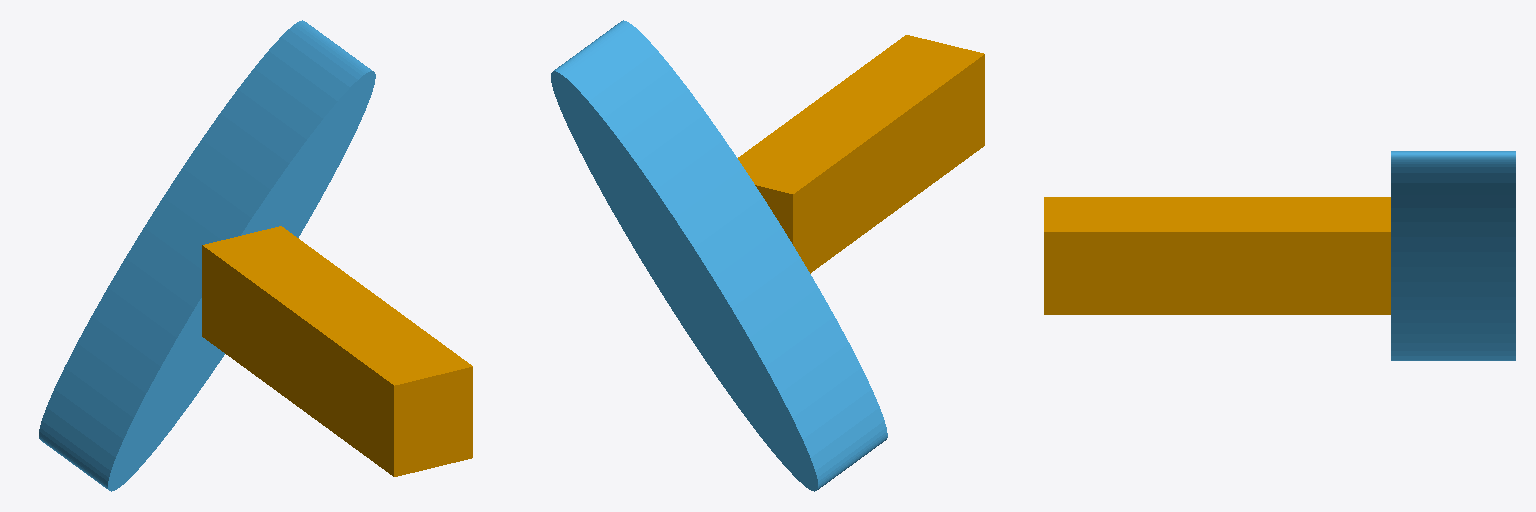
URDF robot description (robot):
<?xml version="1.0" ?>
<robot name="robot">
  <link name="part_1_1">
    <inertial>
      <origin xyz="-0.10943506 -0.062110661 0.10878255" rpy="0 0 0"/>
      <mass value="0.56836923"/>
      <inertia ixx="0.00055839502" ixy="0" ixz="0" iyy="6.5667897e-05" iyz="0" izz="0.00055165134"/>
    </inertial>
    <visual>
      <origin xyz="-0.096446657 -0.11461066 0.086409828" rpy="-1.5707963 1.5707963 0"/>
      <geometry>
        <mesh filename="meshes/part_1_1.stl"/>
      </geometry>
    </visual>
    <collision>
      <origin xyz="-0.096446657 -0.11461066 0.086409828" rpy="-1.5707963 1.5707963 0"/>
      <geometry>
        <mesh filename="meshes/part_1_1.stl"/>
      </geometry>
    </collision>
  </link>
  <joint name="revolute_1" type="continuous">
    <origin xyz="-0.10943506 -0.0096106609 0.10878255" rpy="-1.5707963 1.5707963 0"/>
    <parent link="part_1_1"/>
    <child link="part_2_1"/>
    <axis xyz="0 0 1"/>
  </joint>
  <link name="part_2_1">
    <inertial>
      <origin xyz="1.1926834e-06 9.2599643e-07 0.01895" rpy="0 0 0"/>
      <mass value="0.57017369"/>
      <inertia ixx="0.00032279202" ixy="-0.00031237866" ixz="-2.426694e-09" iyy="0.00048135929" iyz="3.1195454e-09" izz="0.00066756353"/>
    </inertial>
    <visual>
      <origin xyz="0.028753962 -0.16351267 0" rpy="1.5707963 0 -2.4804734"/>
      <geometry>
        <mesh filename="meshes/part_2_1.stl"/>
      </geometry>
    </visual>
    <collision>
      <origin xyz="0.028753962 -0.16351267 0" rpy="1.5707963 0 -2.4804734"/>
      <geometry>
        <mesh filename="meshes/part_2_1.stl"/>
      </geometry>
    </collision>
  </link>
</robot>

--- What the picture shows (computed from the rendered views, not written in the file) ---
The picture shows the robot from 3 angles, left to right: view 1: azimuth 30°, elevation 25°; view 2: azimuth 150°, elevation 25°; view 3: azimuth 270°, elevation 25°; orthographic projection.
Model robot with 2 links and 1 joints (1 continuous), rooted at part_1_1, posed all joints at 0.
Links seen in each view (by area): view 1: part_2_1, part_1_1; view 2: part_2_1, part_1_1; view 3: part_1_1, part_2_1.
Link boxes in pixels (left/top/right/bottom): part_2_1: left=39, top=20, right=375, bottom=491; part_1_1: left=202, top=226, right=472, bottom=476; part_2_1: left=551, top=20, right=887, bottom=491; part_1_1: left=738, top=35, right=984, bottom=273; part_1_1: left=1044, top=197, right=1390, bottom=314; part_2_1: left=1391, top=151, right=1515, bottom=360.
Bounding box of the posed robot: 0.0845 × 0.1429 × 0.1077 m (x, y, z).
2 mesh visuals loaded from 2 distinct referenced files (2 binary STL).